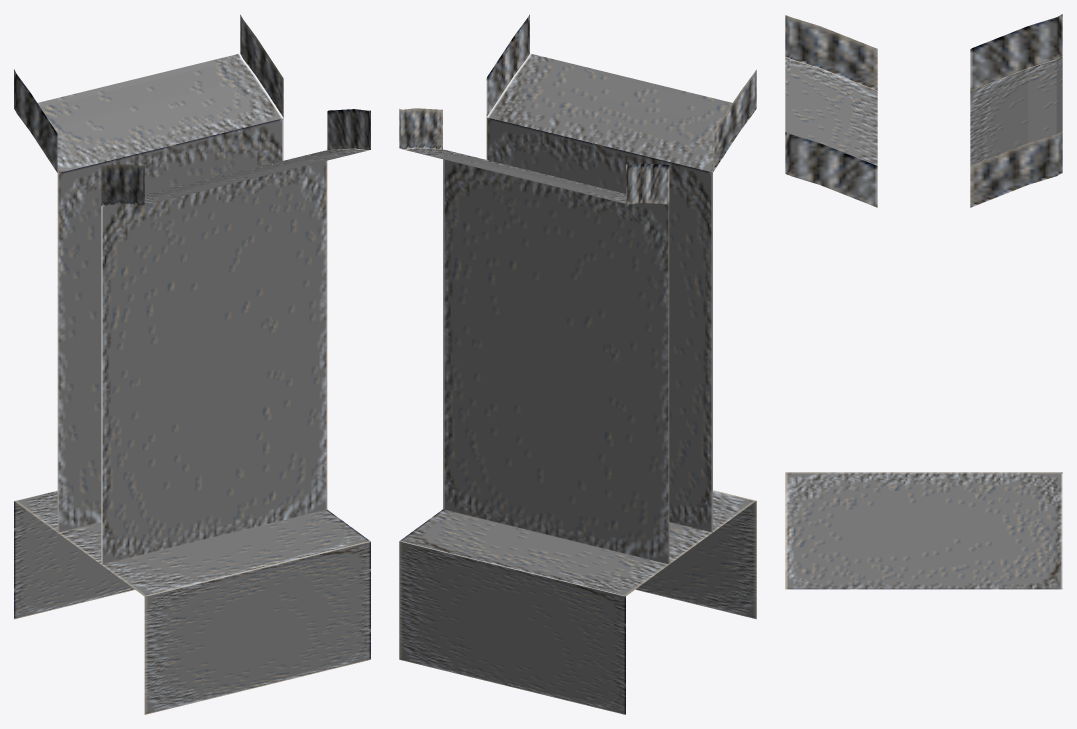
File: Wall.obj
3 renders of one model, left to right at view 1: azimuth 30°, elevation 25°; view 2: azimuth 150°, elevation 25°; view 3: azimuth 270°, elevation 25°, orthographic. The views are drawn at different scales.
Visible parts, largest first — view 1: Wall polySurface11, Wall polySurface18, polySurface12 Wall, Wall pCube20, Wall polySurface13, Wall WallEnd_0001:polySurface18, Wall pCube19; view 2: polySurface12 Wall, Wall WallEnd_0001:polySurface18, Wall polySurface11, Wall pCube19, Wall polySurface13, Wall polySurface18, Wall pCube20; view 3: Wall polySurface13, Wall pCube19, Wall pCube20.
Part boxes in pixels (x1,y1,x2,y2): Wall polySurface11: [101, 160, 327, 564]; Wall polySurface18: [144, 541, 370, 714]; polySurface12 Wall: [57, 118, 283, 532]; Wall pCube20: [14, 14, 283, 173]; Wall polySurface13: [14, 490, 370, 596]; Wall WallEnd_0001:polySurface18: [14, 501, 134, 619]; Wall pCube19: [101, 109, 370, 205]; polySurface12 Wall: [443, 159, 669, 564]; Wall WallEnd_0001:polySurface18: [399, 541, 625, 714]; Wall polySurface11: [486, 117, 712, 532]; Wall pCube19: [486, 14, 756, 172]; Wall polySurface13: [400, 490, 756, 596]; Wall polySurface18: [635, 501, 756, 619]; Wall pCube20: [399, 108, 669, 204]; Wall polySurface13: [785, 472, 1062, 589]; Wall pCube19: [785, 15, 877, 207]; Wall pCube20: [970, 14, 1062, 207].
Size of the model in its own units: 6 by 13.95 by 6.
2 materials, 2 textured.
